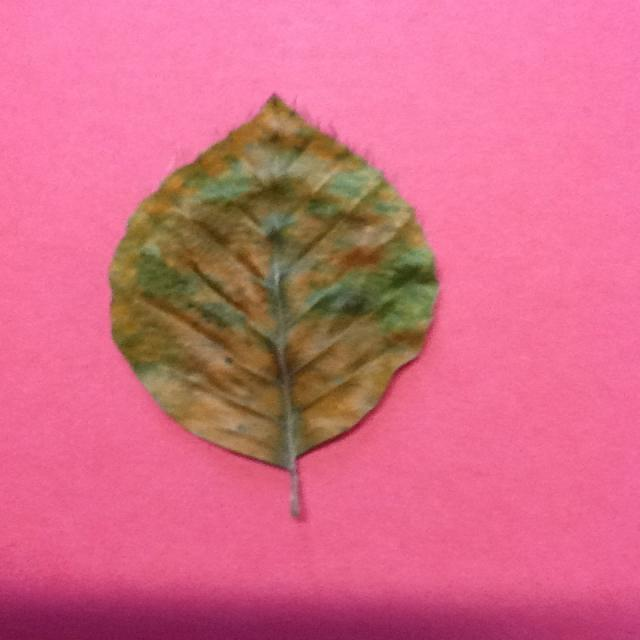foliage: (109, 94, 442, 522)
